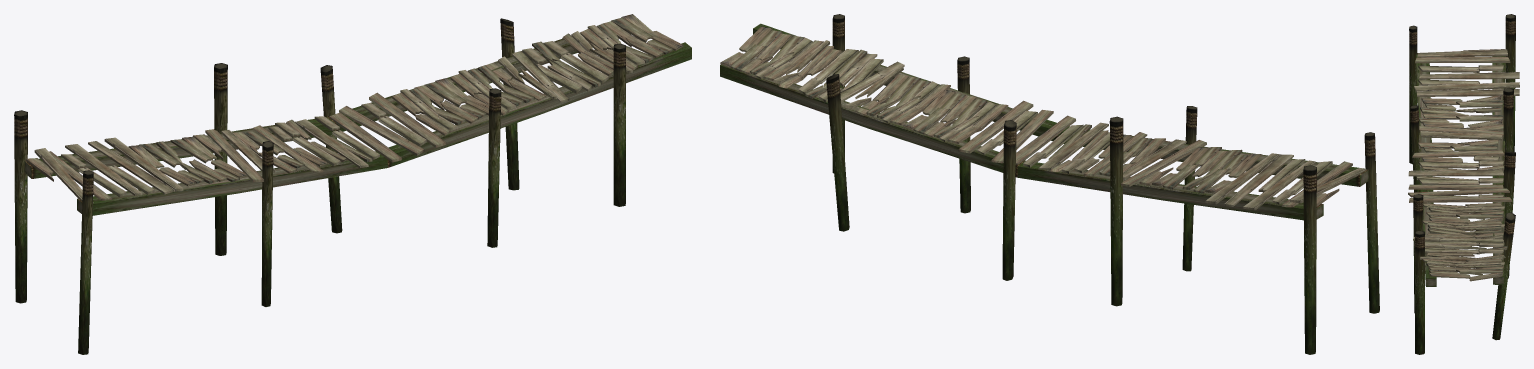
File: pir_m_prp_per_medium_burned.fbx
3 views of the same model, side by side, from view 1: azimuth 30°, elevation 25°; view 2: azimuth 150°, elevation 25°; view 3: azimuth 270°, elevation 25° (orthographic). The views are drawn at different scales.
Parts seen in each view (by area): view 1: broken_planks, pylon, solid_planks, support_1, support_2; view 2: broken_planks, pylon, solid_planks, support_2, support_1; view 3: broken_planks, solid_planks, pylon, support_1, support_2.
Boxes of the visible parts, bbox=[...] form: broken_planks: bbox=[25, 14, 683, 197]; pylon: bbox=[14, 18, 625, 354]; solid_planks: bbox=[34, 51, 569, 203]; support_1: bbox=[77, 42, 691, 215]; support_2: bbox=[24, 38, 592, 178]; broken_planks: bbox=[720, 26, 1339, 206]; pylon: bbox=[826, 14, 1379, 354]; solid_planks: bbox=[840, 61, 1366, 210]; support_2: bbox=[720, 64, 1323, 220]; support_1: bbox=[753, 23, 1368, 186]; broken_planks: bbox=[1414, 49, 1507, 281]; solid_planks: bbox=[1408, 49, 1519, 242]; pylon: bbox=[1409, 14, 1515, 354]; support_1: bbox=[1416, 53, 1436, 286]; support_2: bbox=[1492, 56, 1505, 284].
Size of the model in its own units: 16019 by 4753 by 3277.
Materials: 2 (2 with a texture image).
